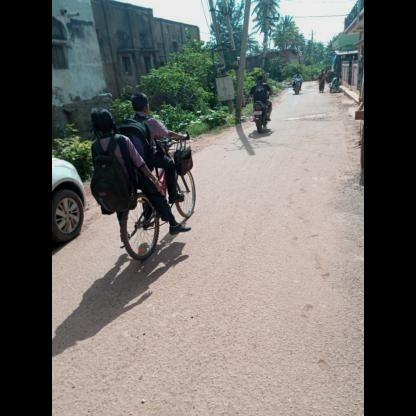Bicycle: (83, 130, 224, 263)
